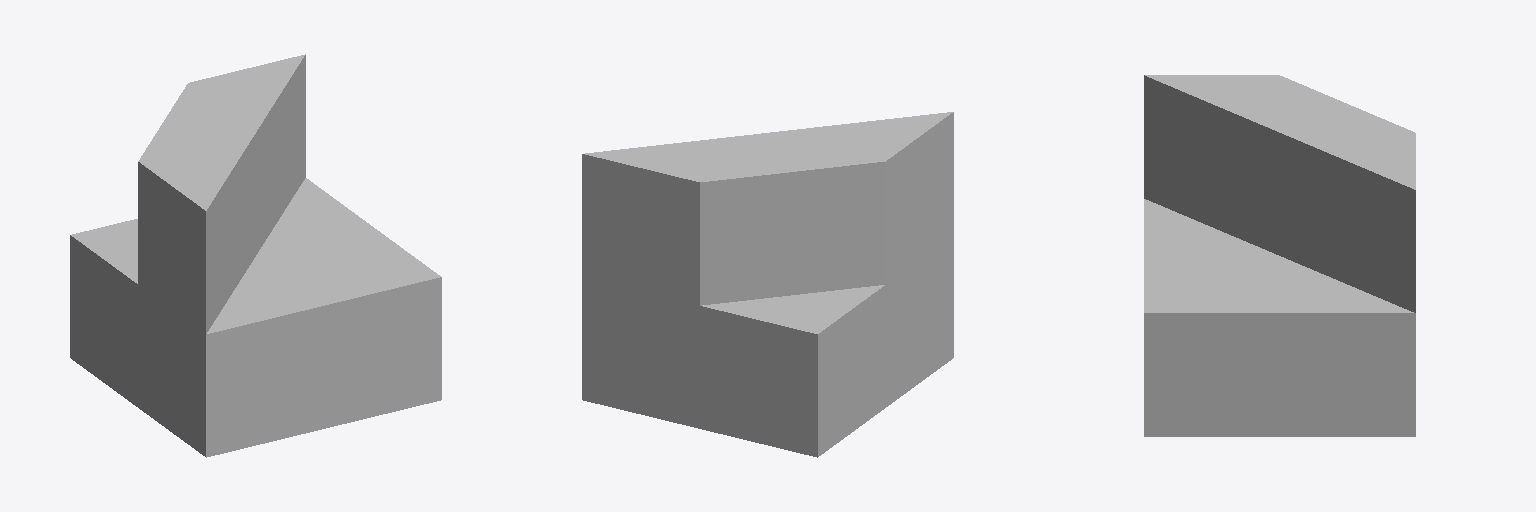
File: diagsteps_83.obj
3 renders of one model, left to right at view 1: azimuth 30°, elevation 25°; view 2: azimuth 150°, elevation 25°; view 3: azimuth 270°, elevation 25°, orthographic.
Bounding box in the file's own units: 1 × 1 × 1.